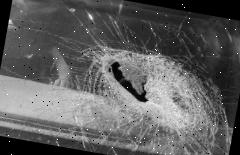glass: (45, 22, 240, 155)
